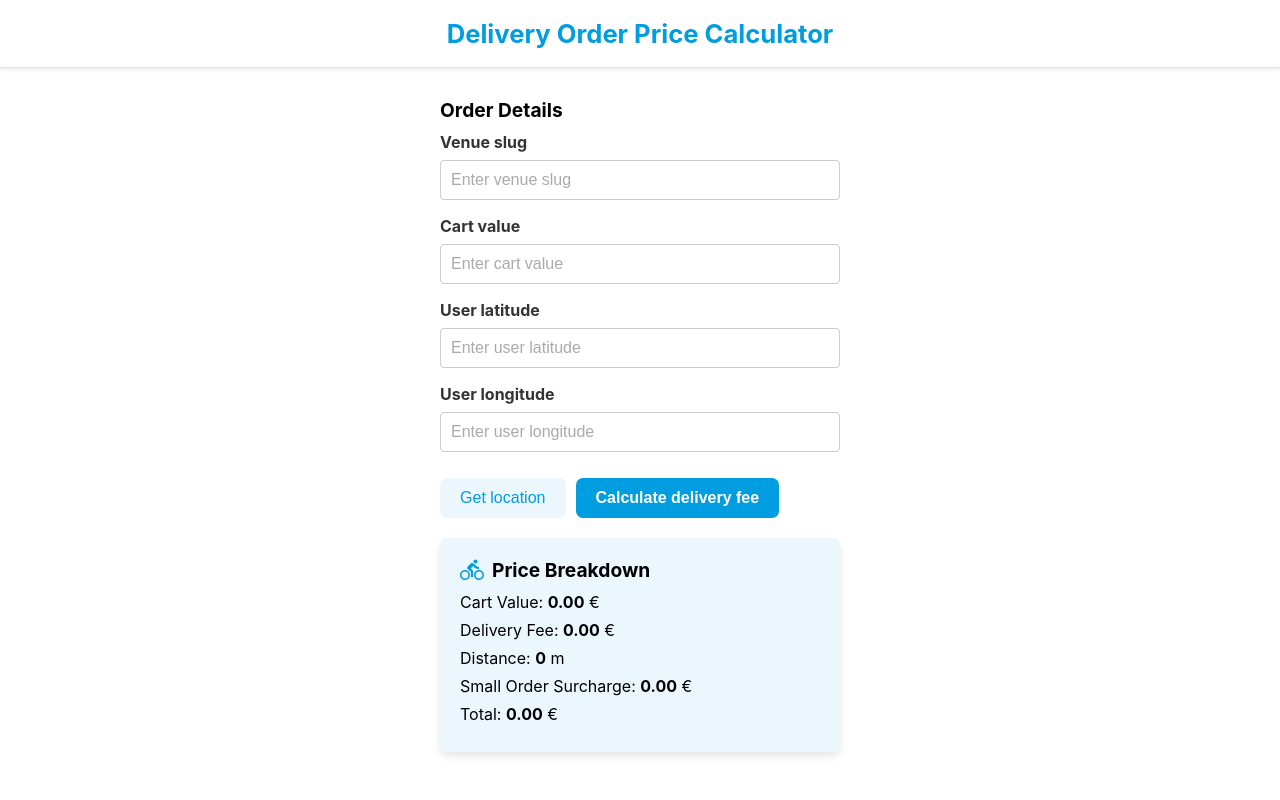
Test: PriceCalculator › should display error message when venue slug is not found
Type "non-existing-venue-slug" into the field with placeholder "Enter venue slug" at coordinates (640, 180), box [440, 160, 840, 200]
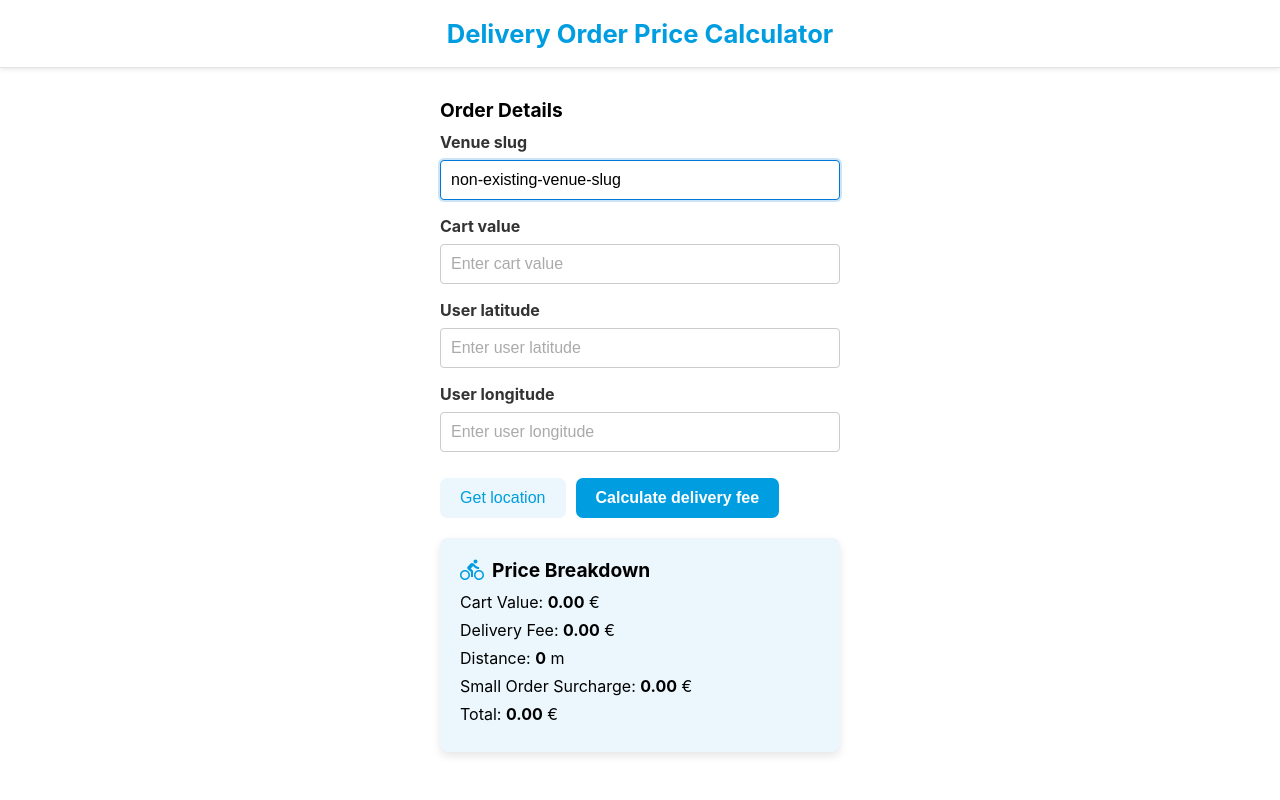
Type "5.93" into the number field with placeholder "Enter cart value" at coordinates (640, 264), box [440, 244, 840, 284]
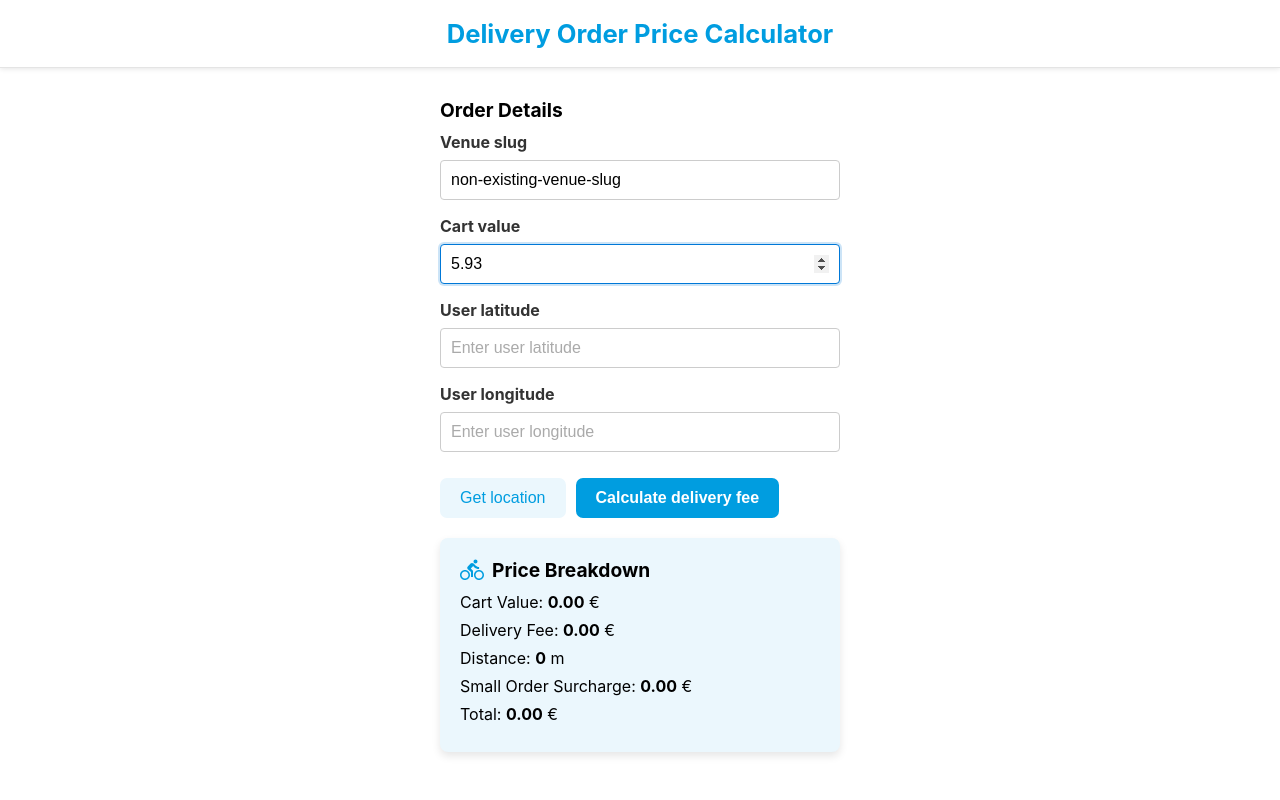
Type "60.1846967" into the number field with placeholder "Enter user latitude" at coordinates (640, 348), box [440, 328, 840, 368]
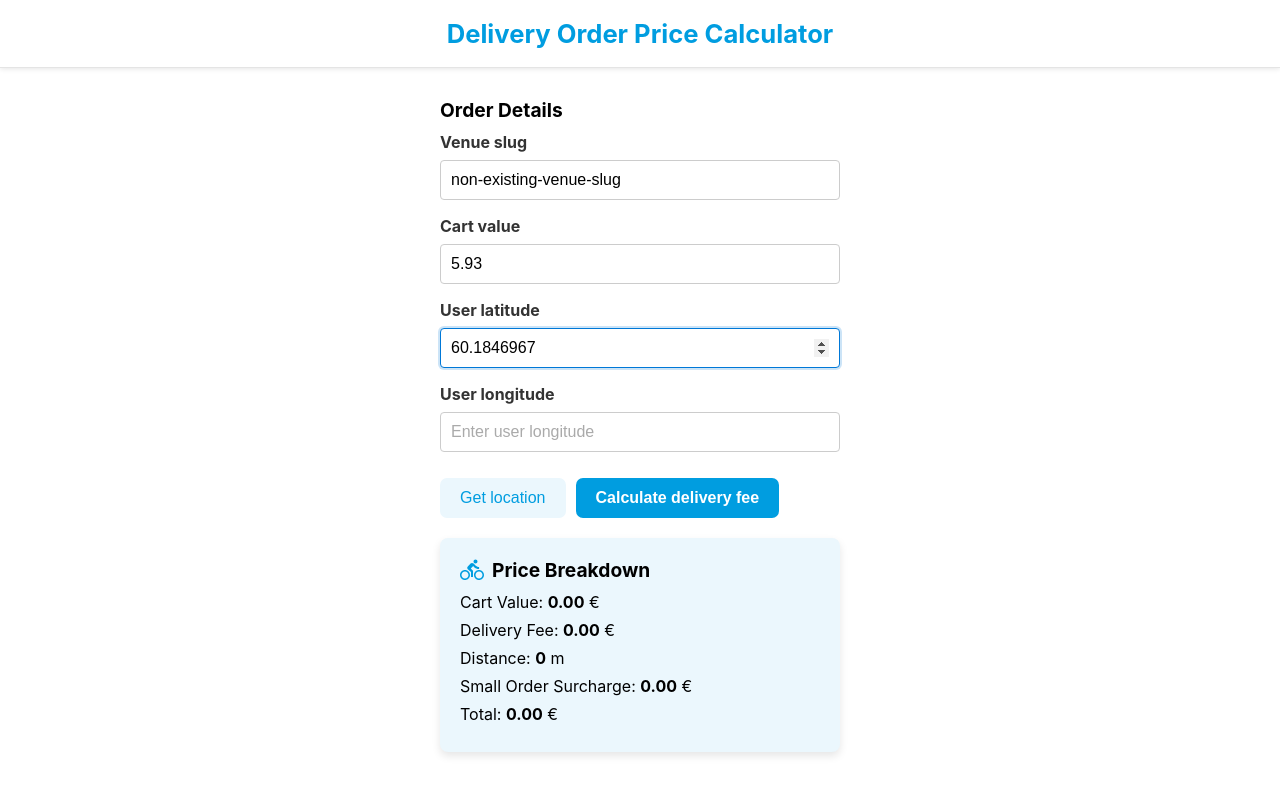
Type "24.9349696" into the number field with placeholder "Enter user longitude" at coordinates (640, 432), box [440, 412, 840, 452]
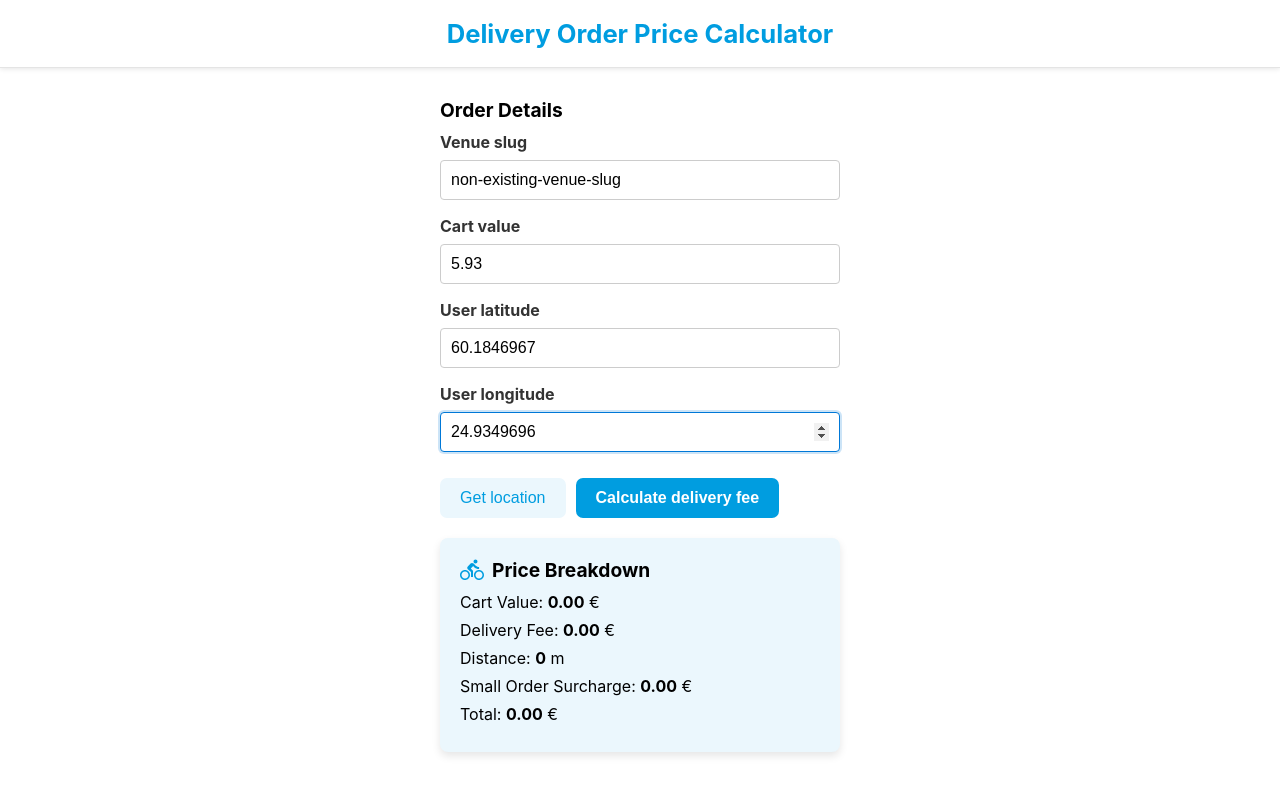
Click the button "Calculate delivery fee" at coordinates (677, 498), box [576, 478, 779, 518]
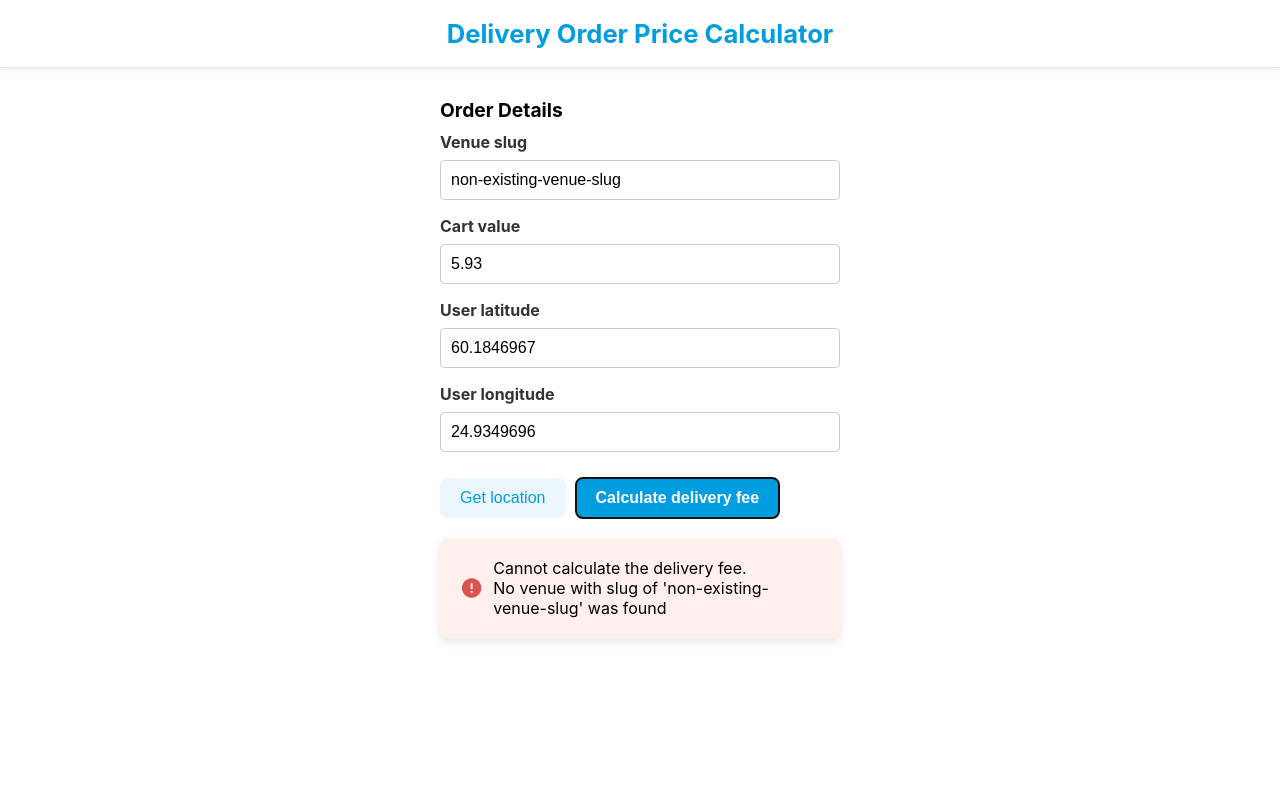
Result: the text "Cannot calculate the delivery fee. No venue with slug of 'non-existing-venue-slug' was found" is shown at [440, 538, 840, 638]
